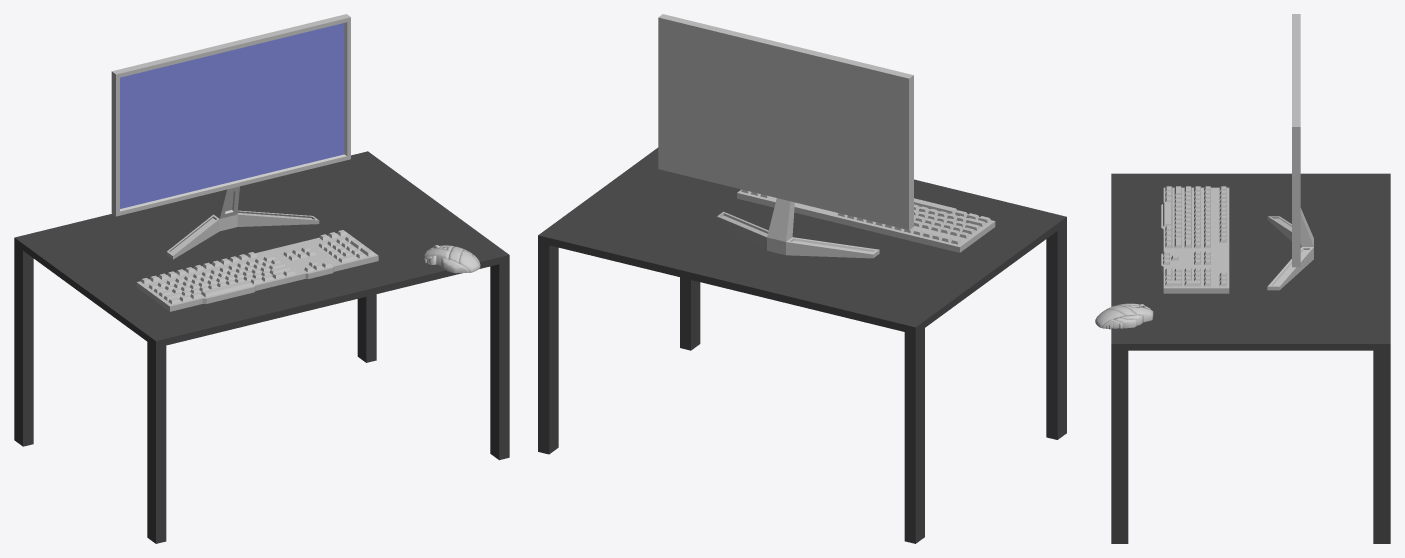
The model's file is DESK-AREA.dae.
3 renders of one model, left to right at view 1: azimuth 30°, elevation 25°; view 2: azimuth 150°, elevation 25°; view 3: azimuth 270°, elevation 25°, orthographic. The views are drawn at different scales.
Parts seen in each view (by area): view 1: TABLE, MONITOR, KEYBOARD, MOUSE; view 2: TABLE, MONITOR, KEYBOARD; view 3: TABLE, KEYBOARD, MONITOR, MOUSE.
Part boxes in pixels (x1=…): TABLE: x1=14, y1=151, x2=509, y2=543; MONITOR: x1=111, y1=14, x2=350, y2=259; KEYBOARD: x1=136, y1=230, x2=378, y2=311; MOUSE: x1=424, y1=245, x2=480, y2=273; TABLE: x1=538, y1=147, x2=1066, y2=543; MONITOR: x1=658, y1=14, x2=913, y2=258; KEYBOARD: x1=737, y1=189, x2=995, y2=252; TABLE: x1=1111, y1=173, x2=1390, y2=543; KEYBOARD: x1=1161, y1=186, x2=1229, y2=293; MONITOR: x1=1267, y1=14, x2=1313, y2=290; MOUSE: x1=1095, y1=303, x2=1153, y2=329.
Bounding box in the file's own units: 0.8434 × 0.6184 × 0.8883.
